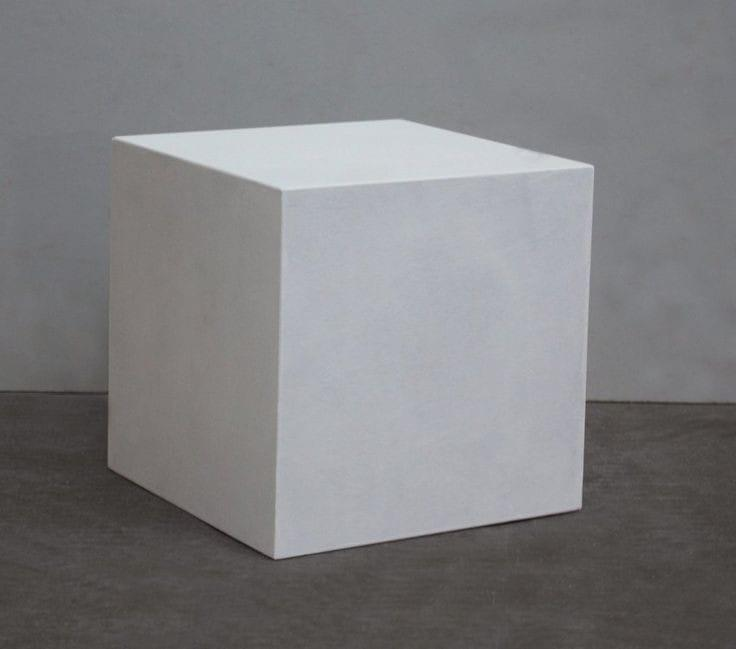cubos: (82, 108, 607, 573)
